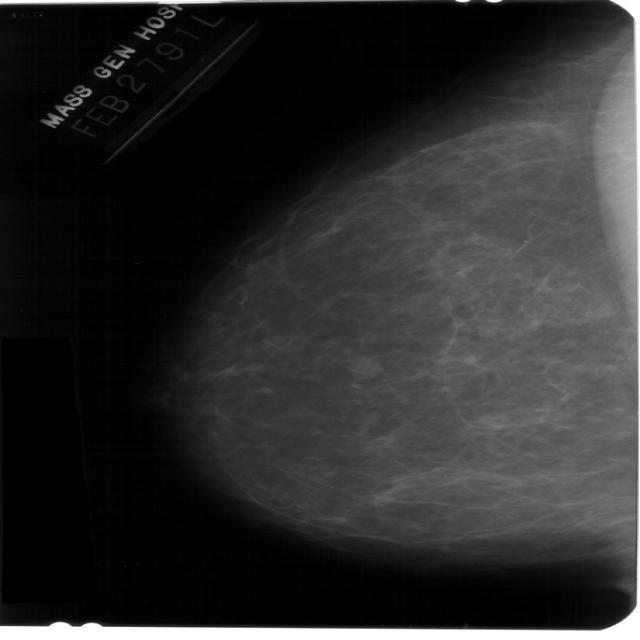tumour: (343, 354, 380, 379)
